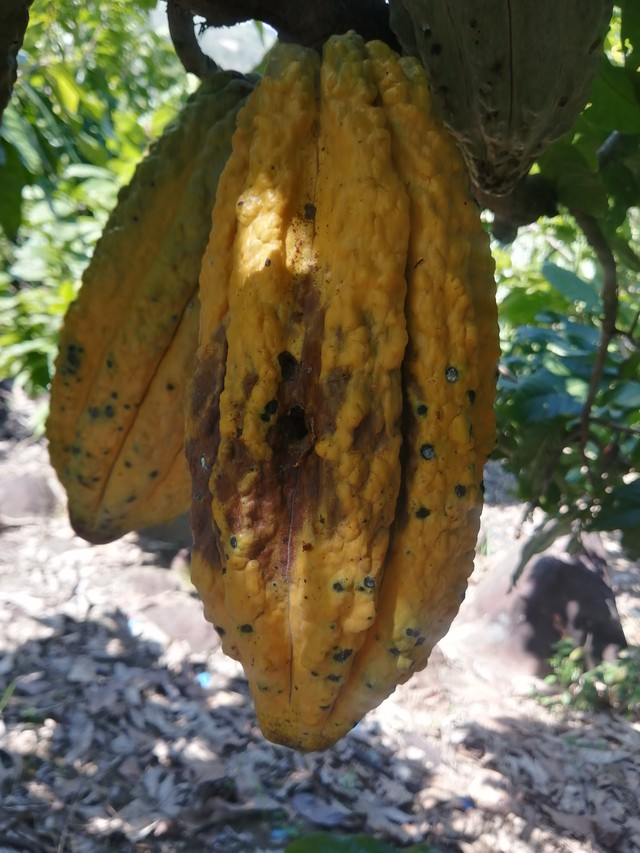carmenta foraseminis: (172, 20, 503, 763), (44, 66, 261, 555)
